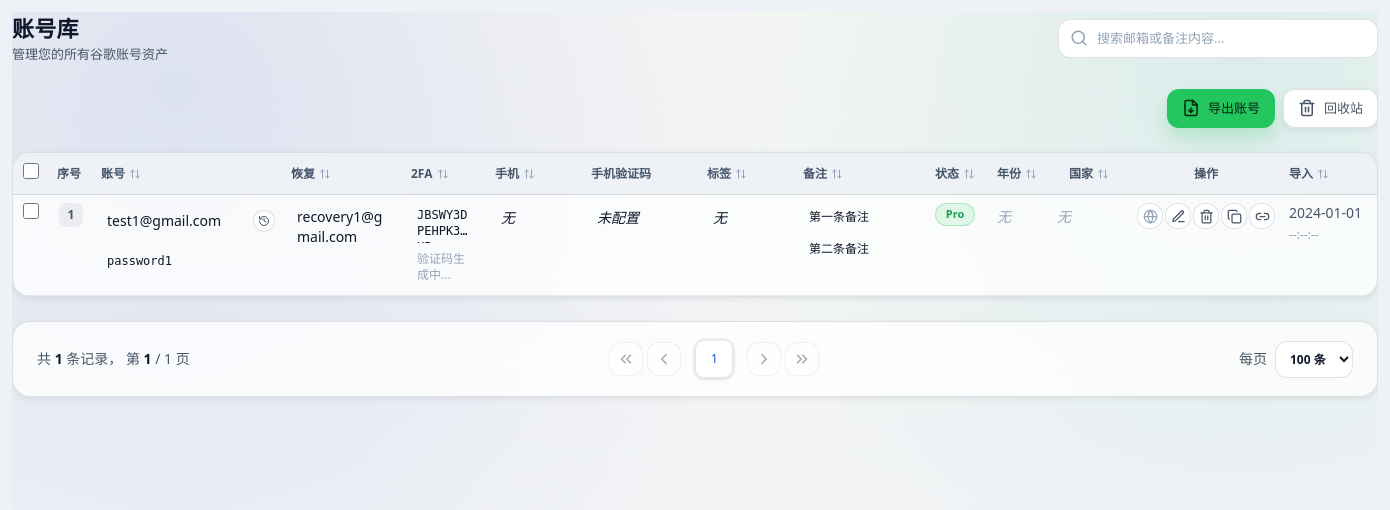
Scenario: AccountListView 组件 › 操作按钮 › 双击备注进入多行编辑器，并显示添加一行操作
Double-click the button "第一条备注" at (859, 217), box [803,203,915,231]
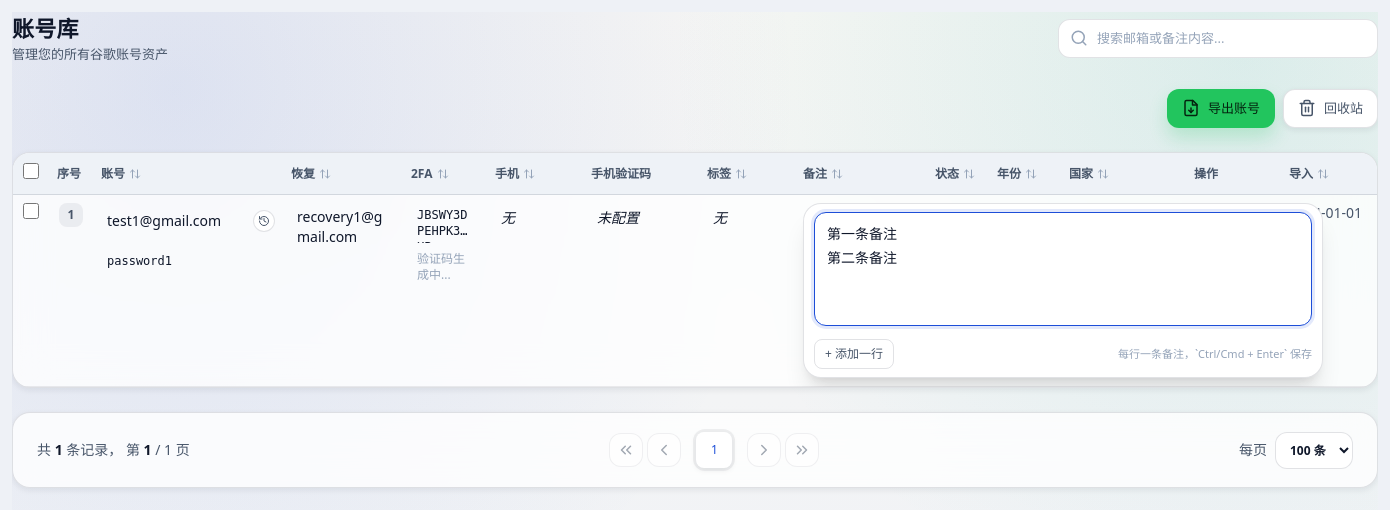
Expected: the text box with placeholder "每行一条备注，便于逐条查看和编辑" is shown, [814,212,1312,326]
Expected: the button "+ 添加一行" is shown, [814,339,894,369]
